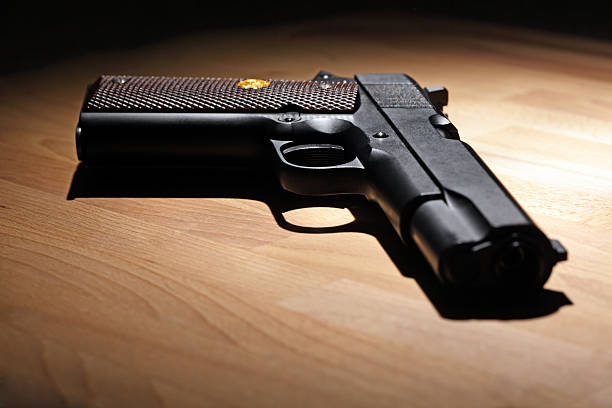gun: (71, 70, 570, 305)
